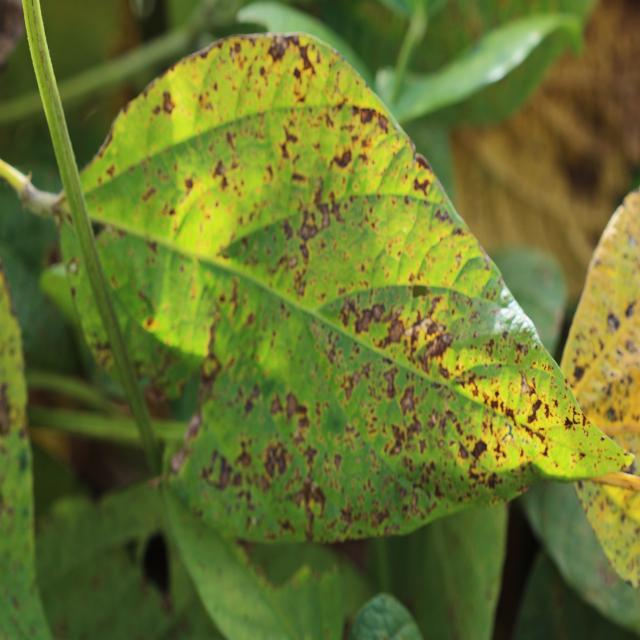Bacterial_Blight: (459, 361, 569, 449), (341, 288, 451, 369), (283, 197, 339, 283), (384, 395, 434, 459), (196, 313, 232, 394), (267, 386, 313, 445), (292, 476, 326, 530), (202, 447, 236, 491), (211, 154, 241, 192), (350, 103, 385, 130), (294, 41, 319, 77), (181, 411, 202, 450), (340, 370, 361, 403), (241, 383, 262, 415), (0, 381, 13, 431), (266, 35, 290, 62), (136, 288, 156, 317), (280, 124, 299, 153), (332, 146, 353, 170), (413, 174, 432, 196), (470, 438, 488, 461), (571, 362, 588, 383), (161, 90, 175, 115), (433, 206, 452, 224), (606, 311, 620, 332), (281, 219, 294, 241), (623, 337, 638, 356), (66, 256, 81, 275), (141, 185, 157, 202), (624, 300, 637, 319), (333, 452, 343, 471), (184, 175, 195, 191)
Soybean: (82, 33, 640, 541)
